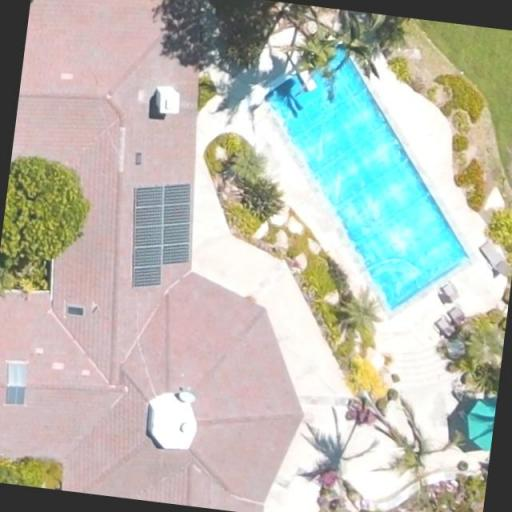solar-panel: (132, 183, 190, 287)
